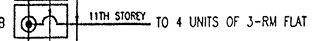Single Phase Tap-Off Unit: (11, 2, 73, 41)
